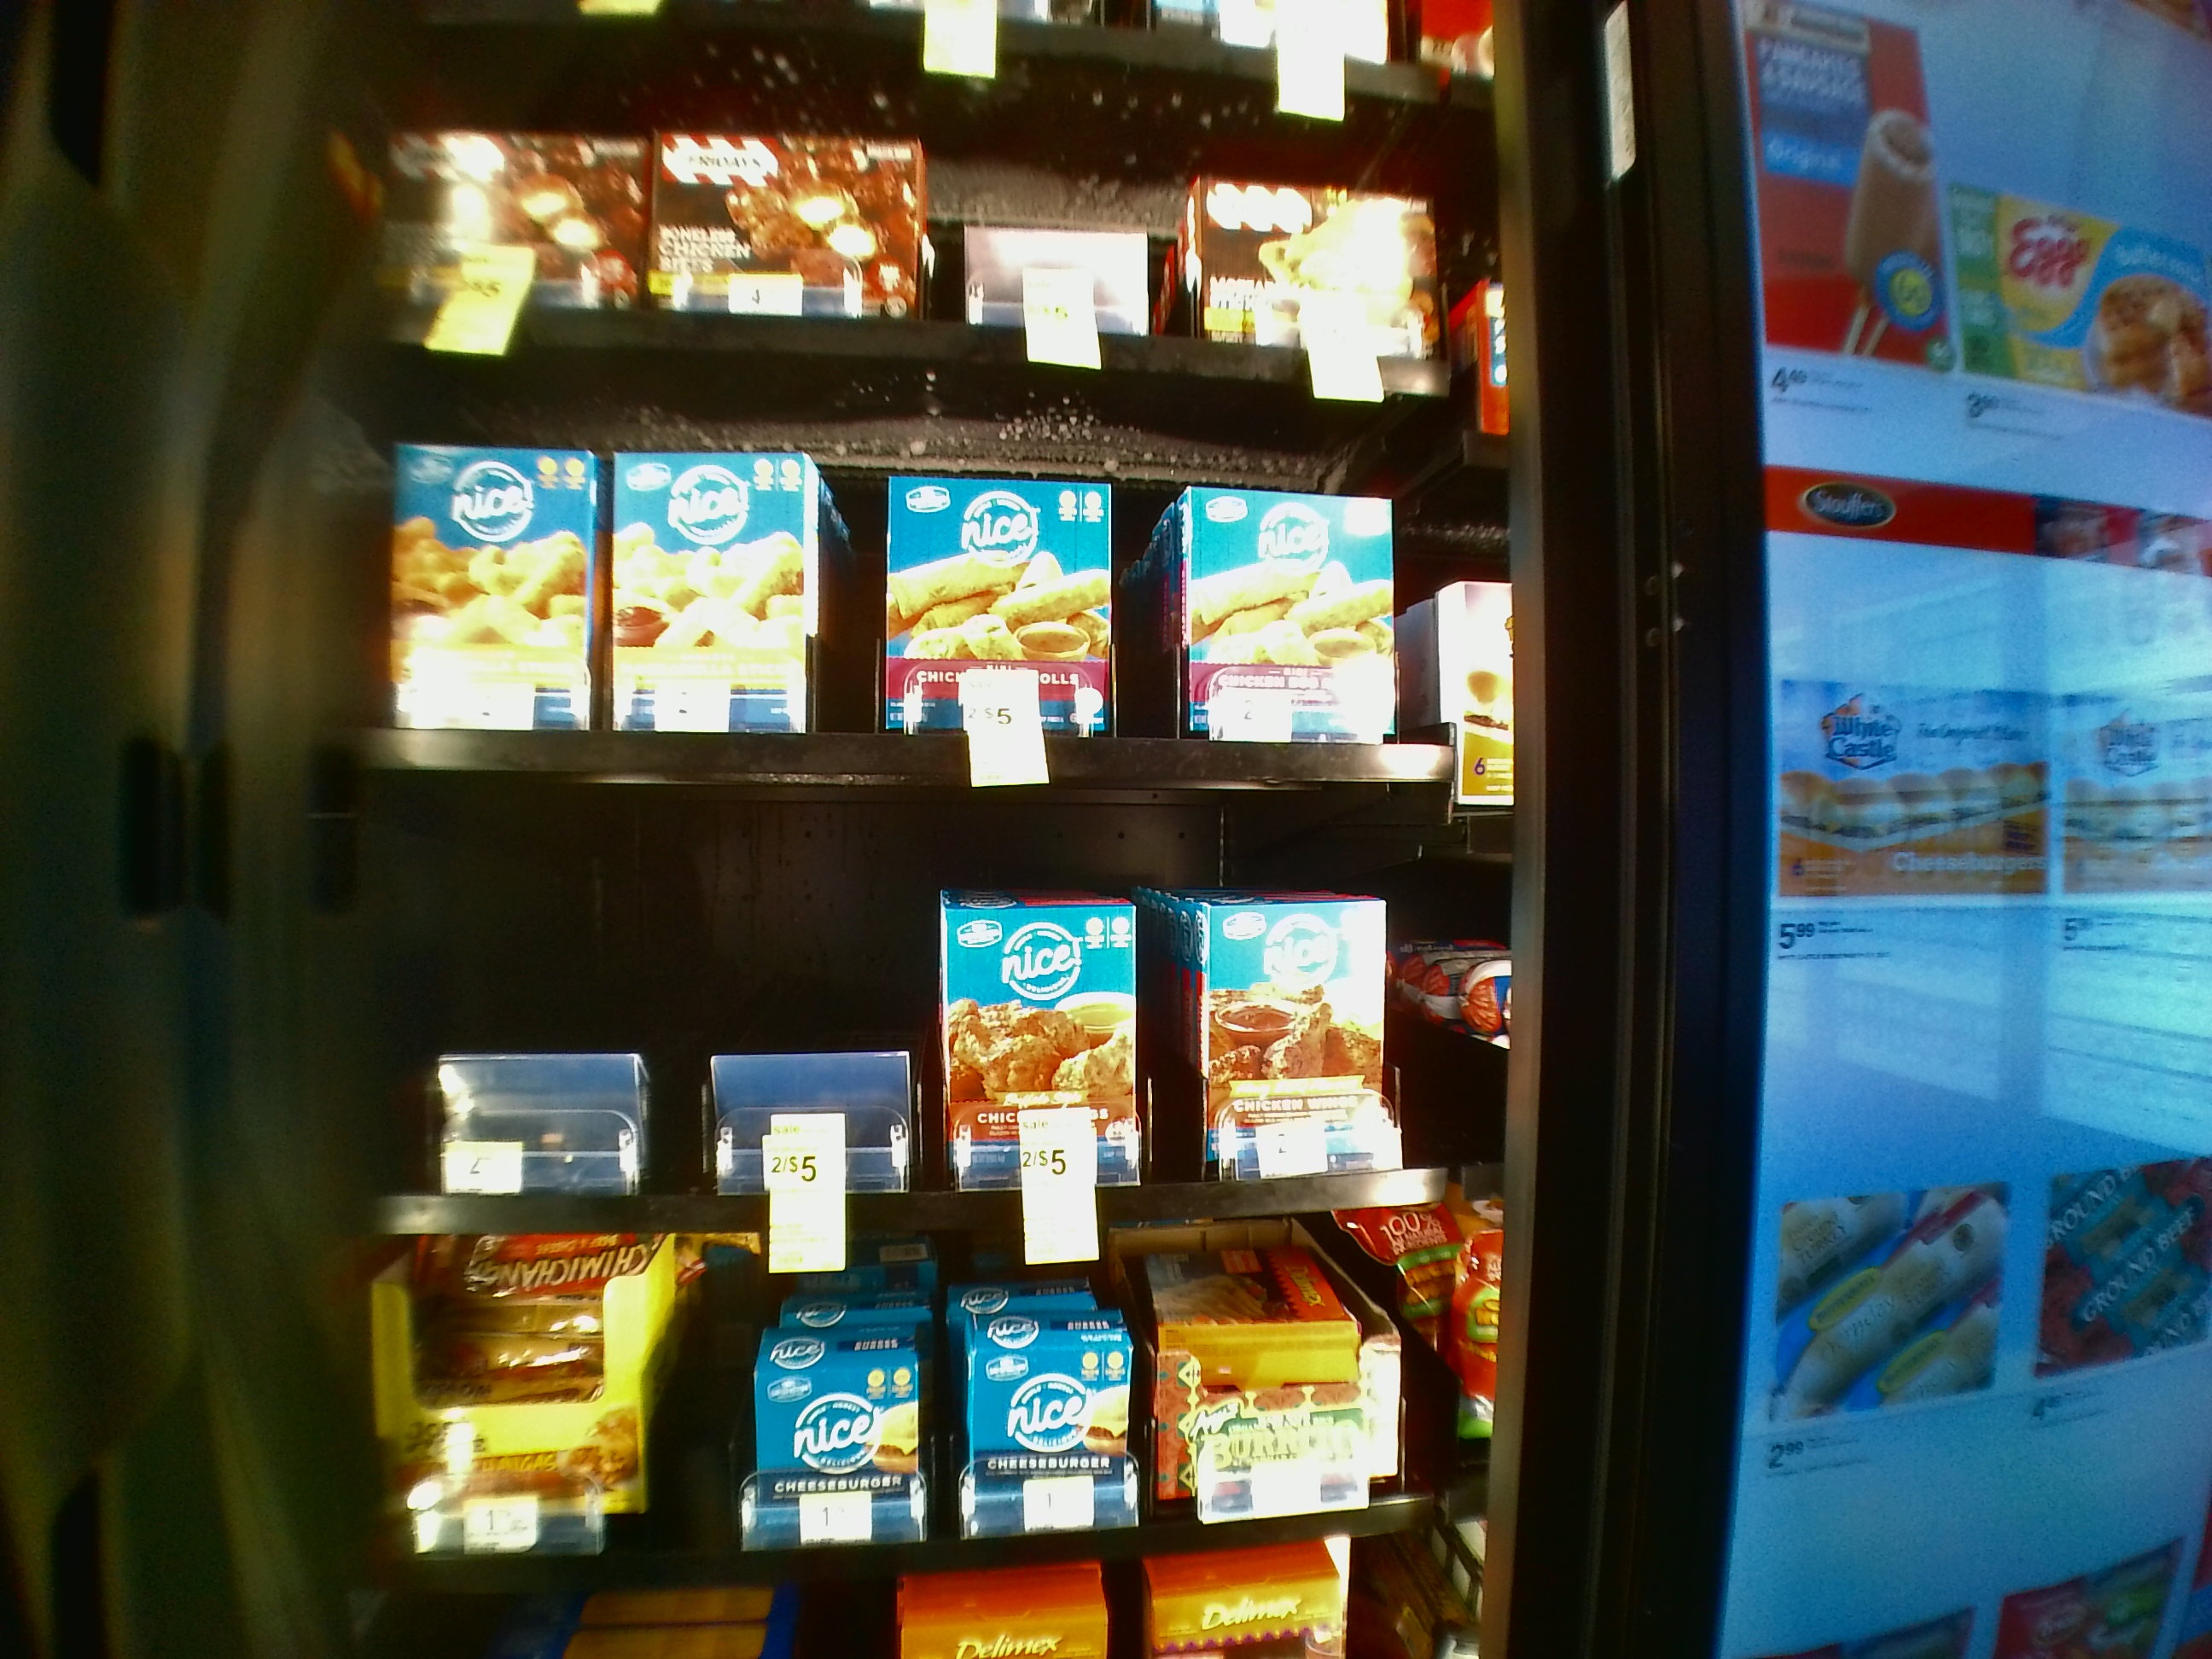shelf: (336, 362, 1505, 793), (336, 812, 1508, 1239)
